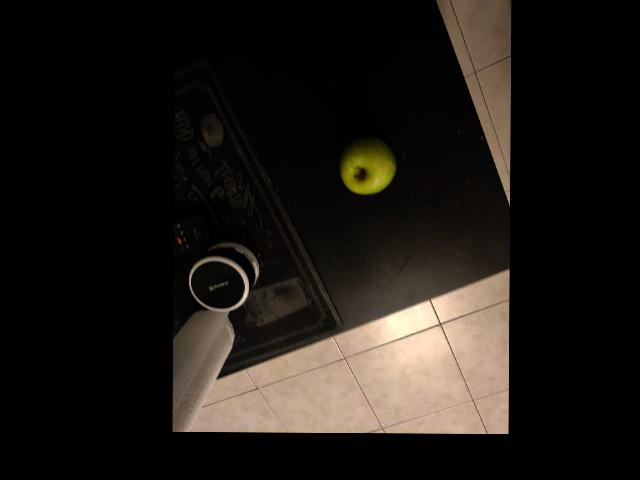apple: (401, 258, 480, 326)
